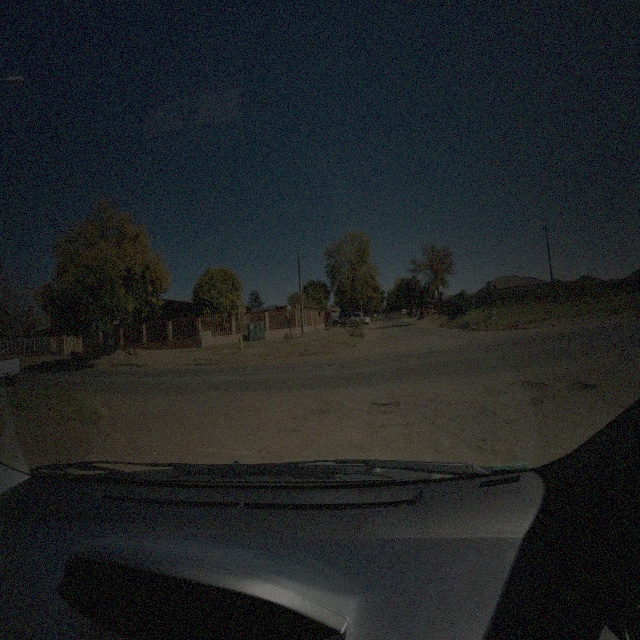pothole: (368, 397, 403, 418), (563, 376, 595, 392), (508, 377, 547, 390), (527, 392, 543, 405)
